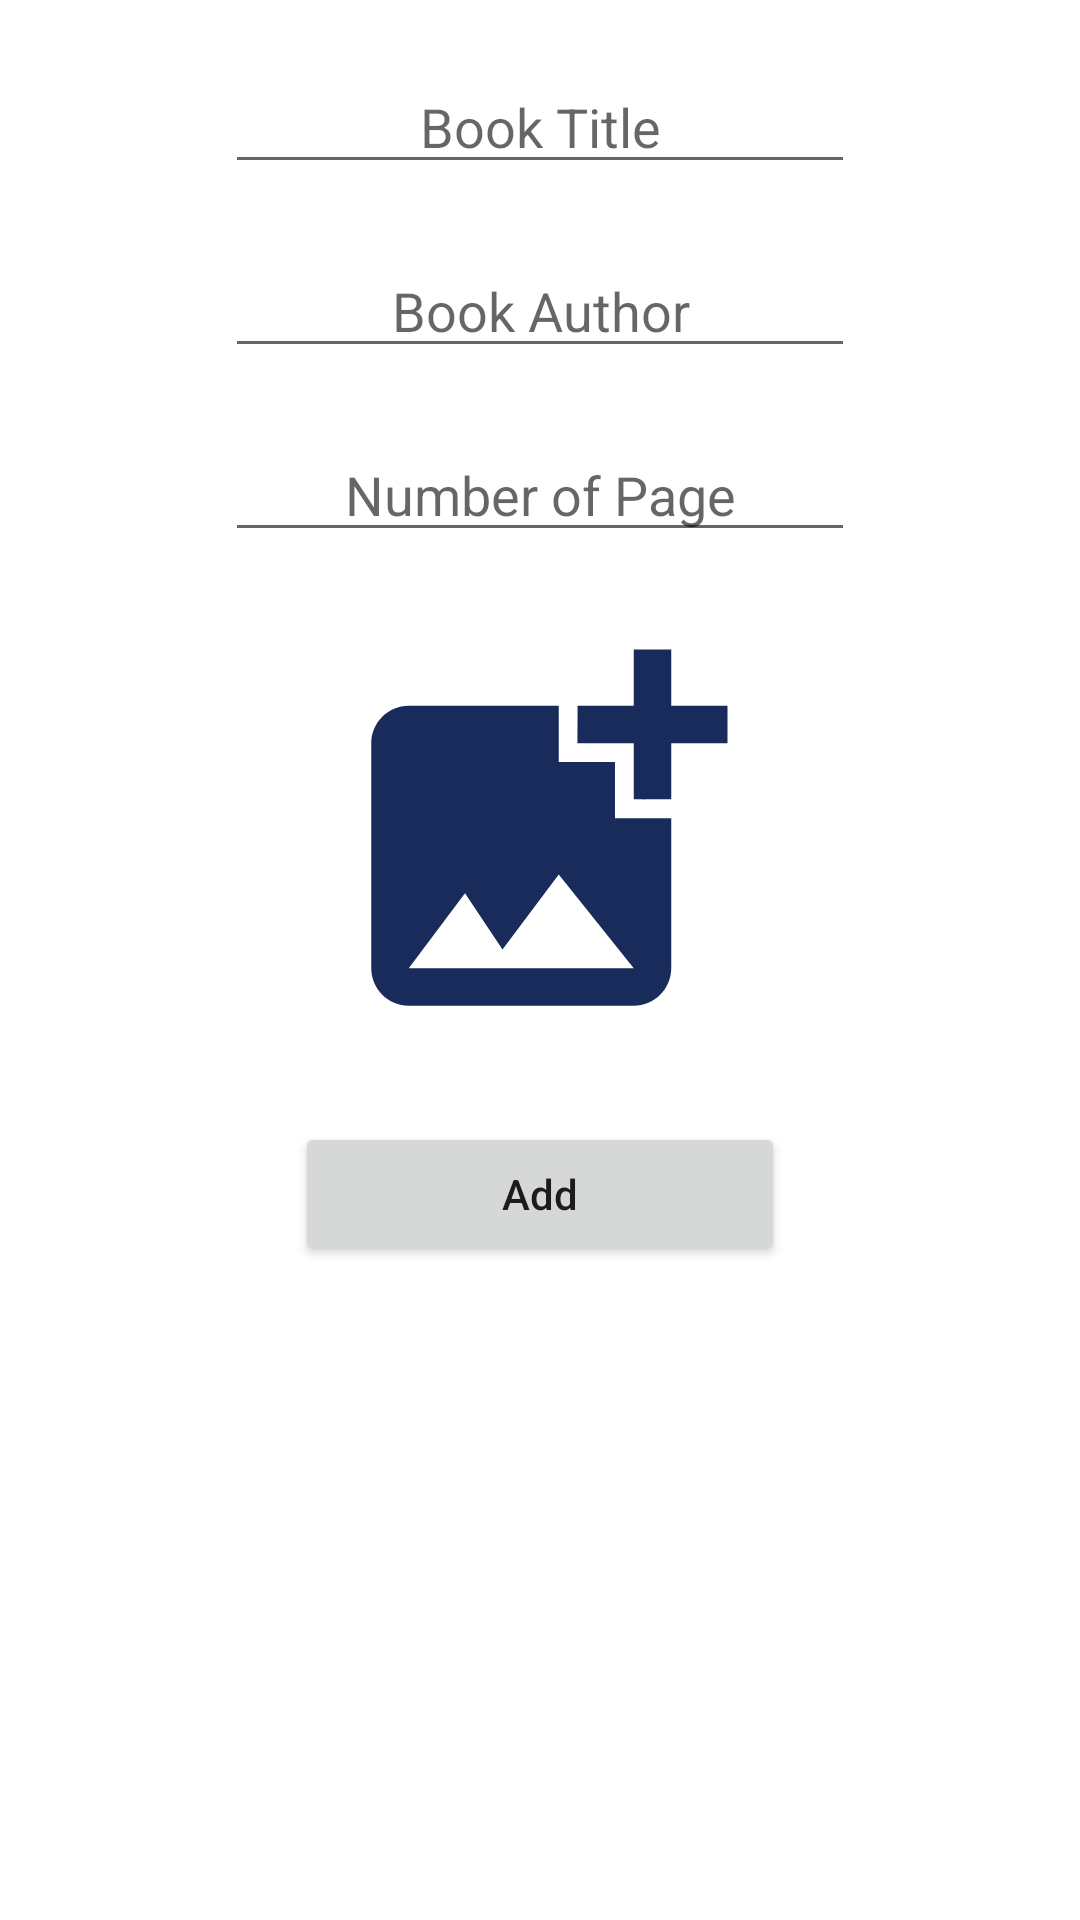

Icons on this 1080 x 1920 Android screen, each with the point to tap as (x,y):
add photo alternate: (549,827)
